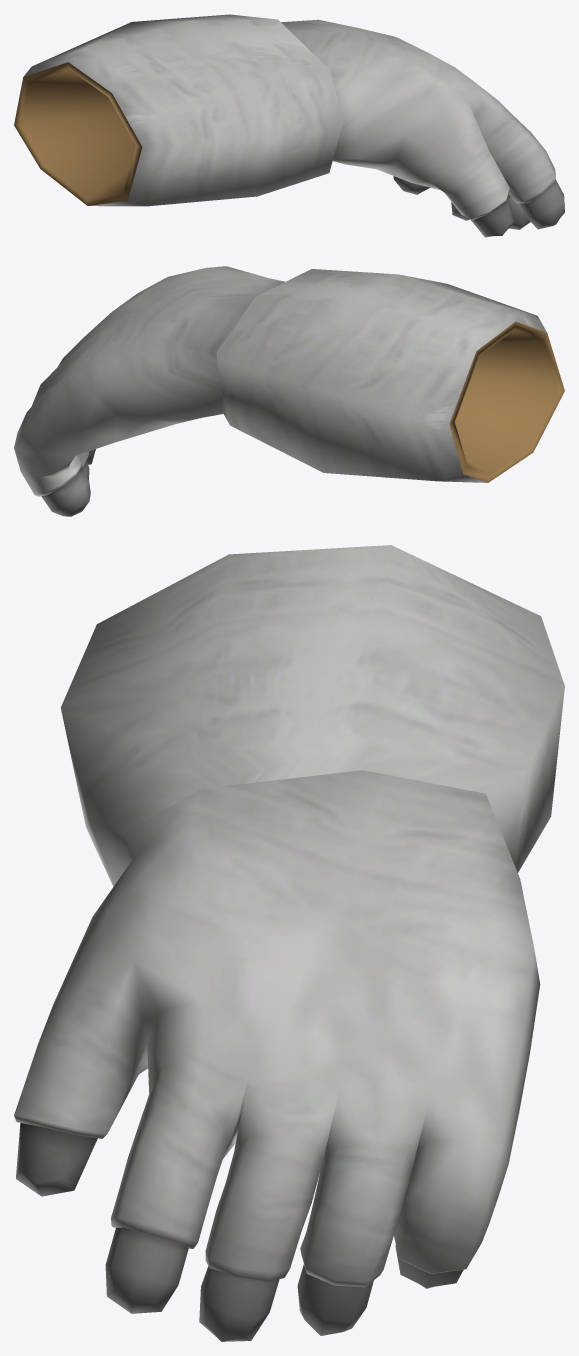
The model's file is Astronaut Glove.glb.
3 views of the same model, one above another, from view 1: azimuth 30°, elevation 25°; view 2: azimuth 150°, elevation 25°; view 3: azimuth 270°, elevation 25° (orthographic). The views are drawn at different scales.
Parts seen in each view (by area): view 1: astronaut_; view 2: astronaut_; view 3: astronaut_.
Boxes of the visible parts, bbox=[...] form: astronaut_: bbox=[14, 14, 564, 237]; astronaut_: bbox=[14, 266, 564, 516]; astronaut_: bbox=[14, 545, 564, 1341].
Size of the model in its own units: 12.3 by 6.57 by 7.09.
2 materials, 2 textured.
